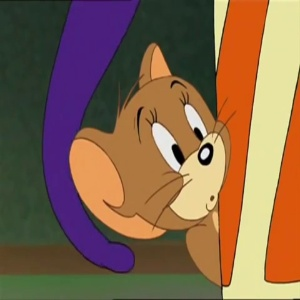Jerry: (71, 38, 231, 233)
